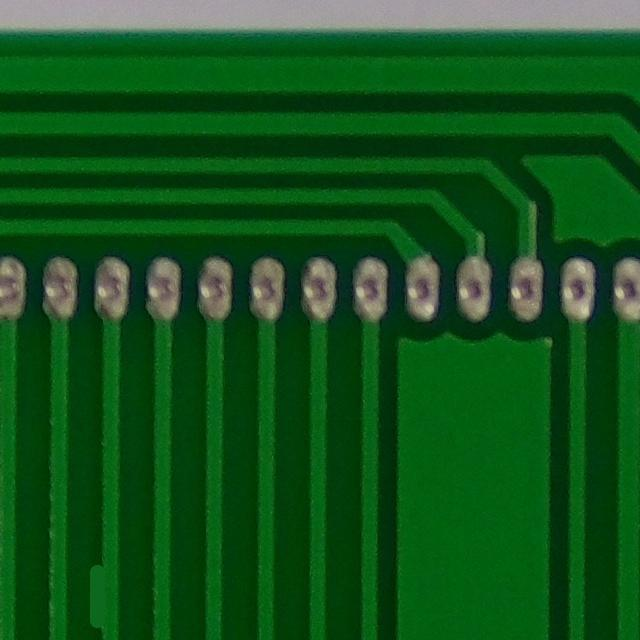spur: (69, 554, 129, 639)
